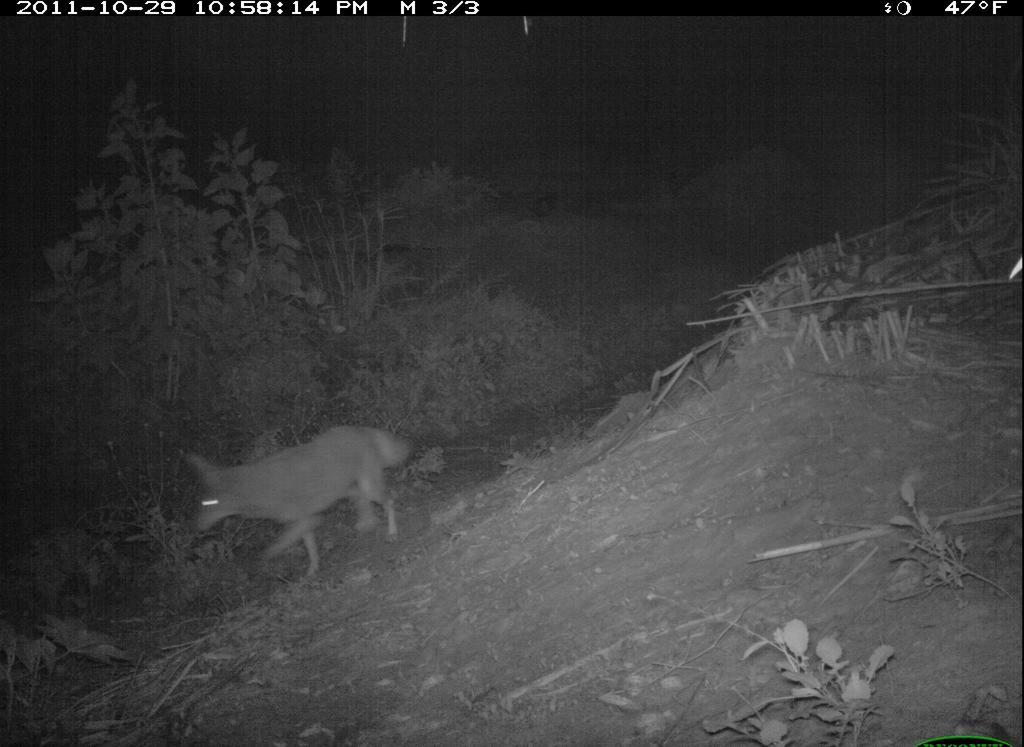coyote: (173, 415, 422, 582)
